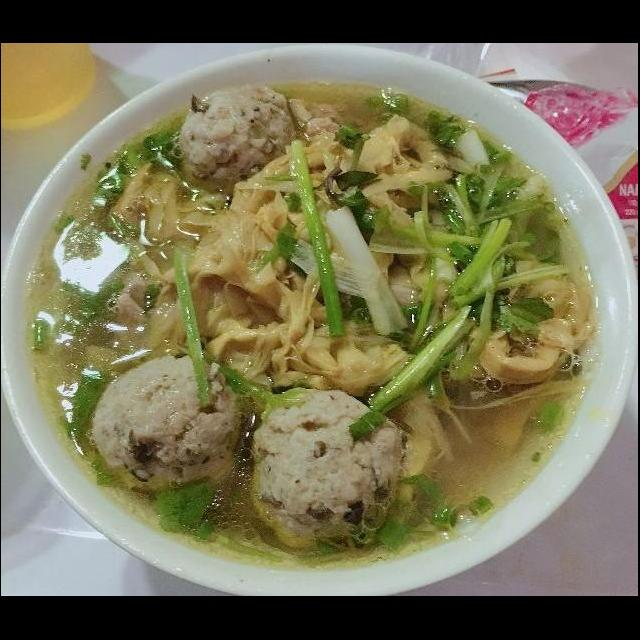vien moc: (243, 379, 412, 556), (90, 340, 248, 512), (168, 84, 300, 184)
